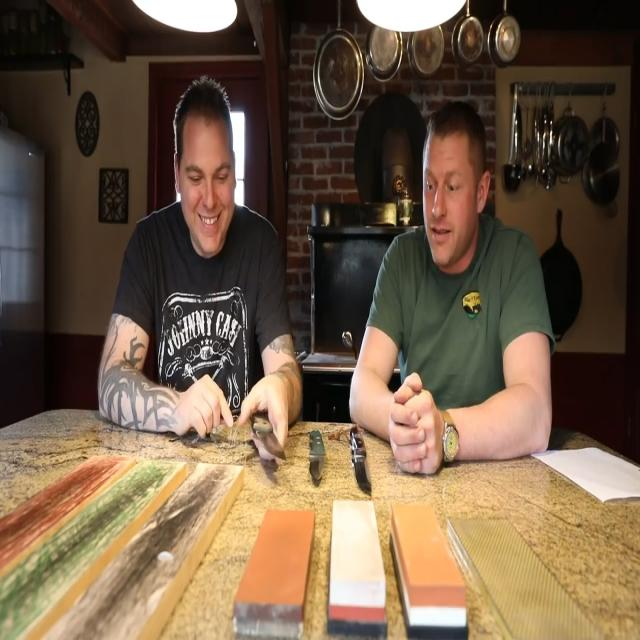knife: (347, 421, 376, 497), (253, 414, 290, 464), (306, 423, 328, 494)
